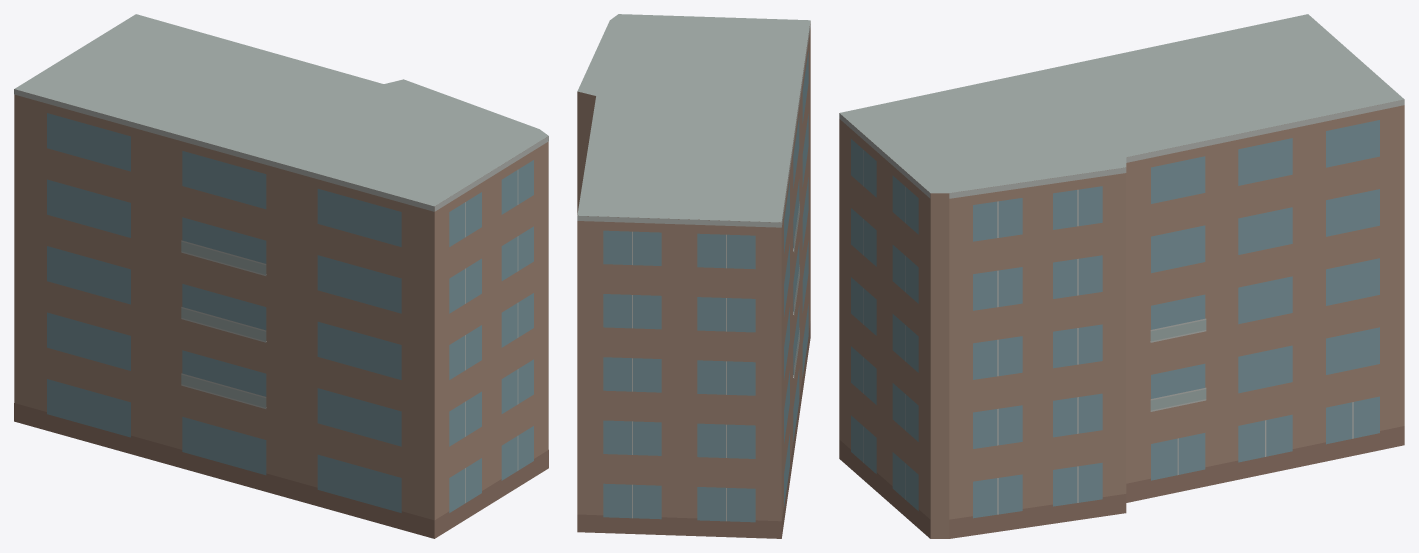
Rendered from survey-upis-32476317.glb.
The picture shows the model from 3 angles, left to right: view 1: azimuth 30°, elevation 25°; view 2: azimuth 150°, elevation 25°; view 3: azimuth 270°, elevation 25°; orthographic projection. The views are drawn at different scales.
Visible parts, largest first — view 1: survey-upis-32476317.tmp; view 2: survey-upis-32476317.tmp; view 3: survey-upis-32476317.tmp.
Boxes of the visible parts, x1,y1,x2,y2 form: survey-upis-32476317.tmp: [14, 14, 548, 538]; survey-upis-32476317.tmp: [577, 14, 810, 538]; survey-upis-32476317.tmp: [839, 14, 1404, 538].
Size of the model in its own units: 16.57 by 14.9 by 22.09.
